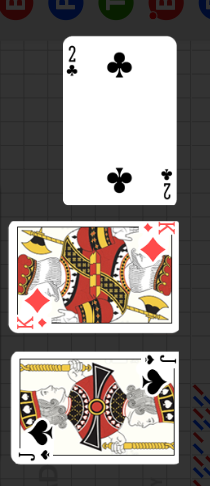2C: (66, 44, 80, 79)
JS: (130, 353, 177, 397), (10, 420, 56, 464)
KD: (15, 316, 48, 331)
